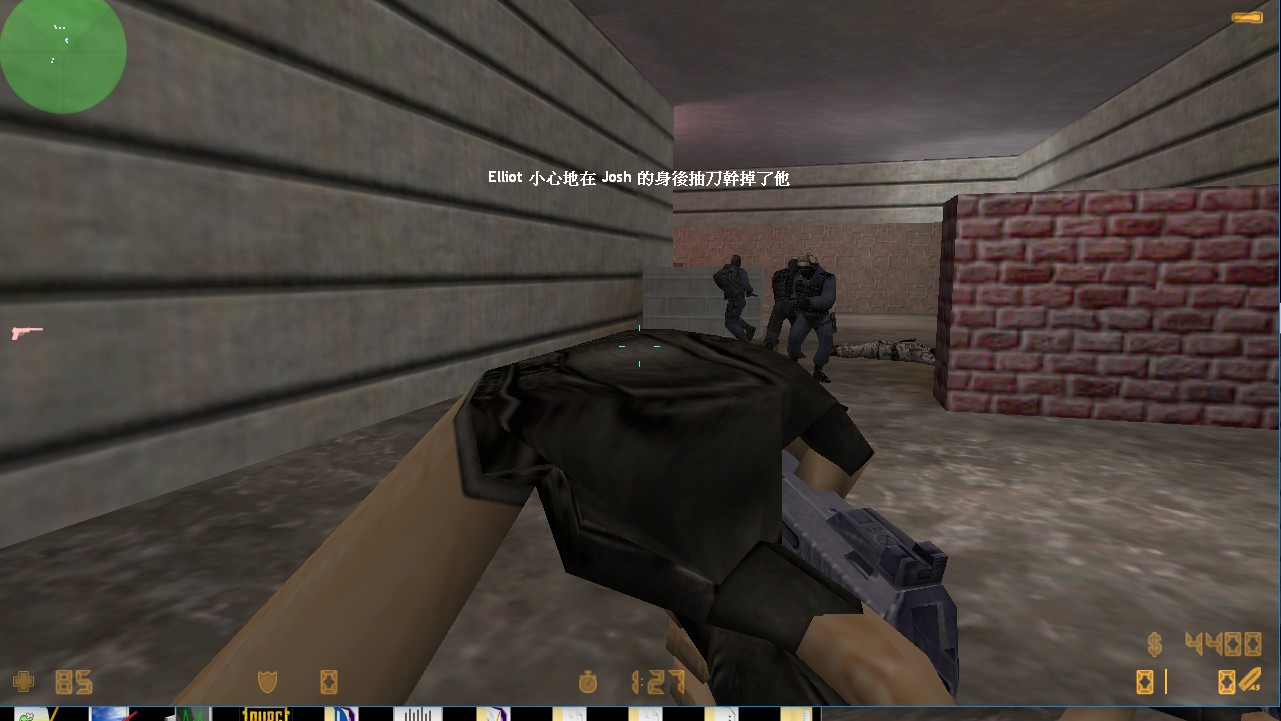person: (787, 251, 838, 385), (711, 250, 759, 345)
